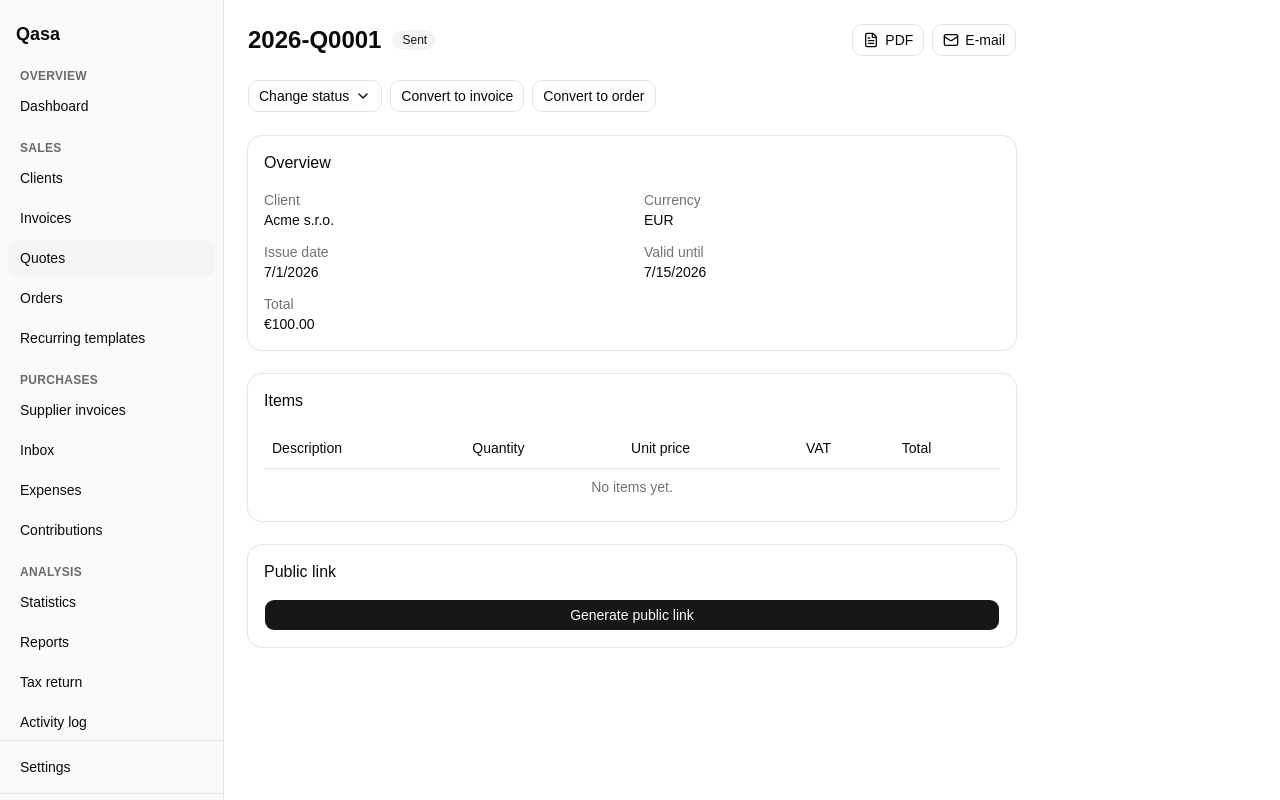
quote detail › only offers status transitions allowed from "sent"
Click the button "Change status" at x=315, y=96, box [248,80,382,112]
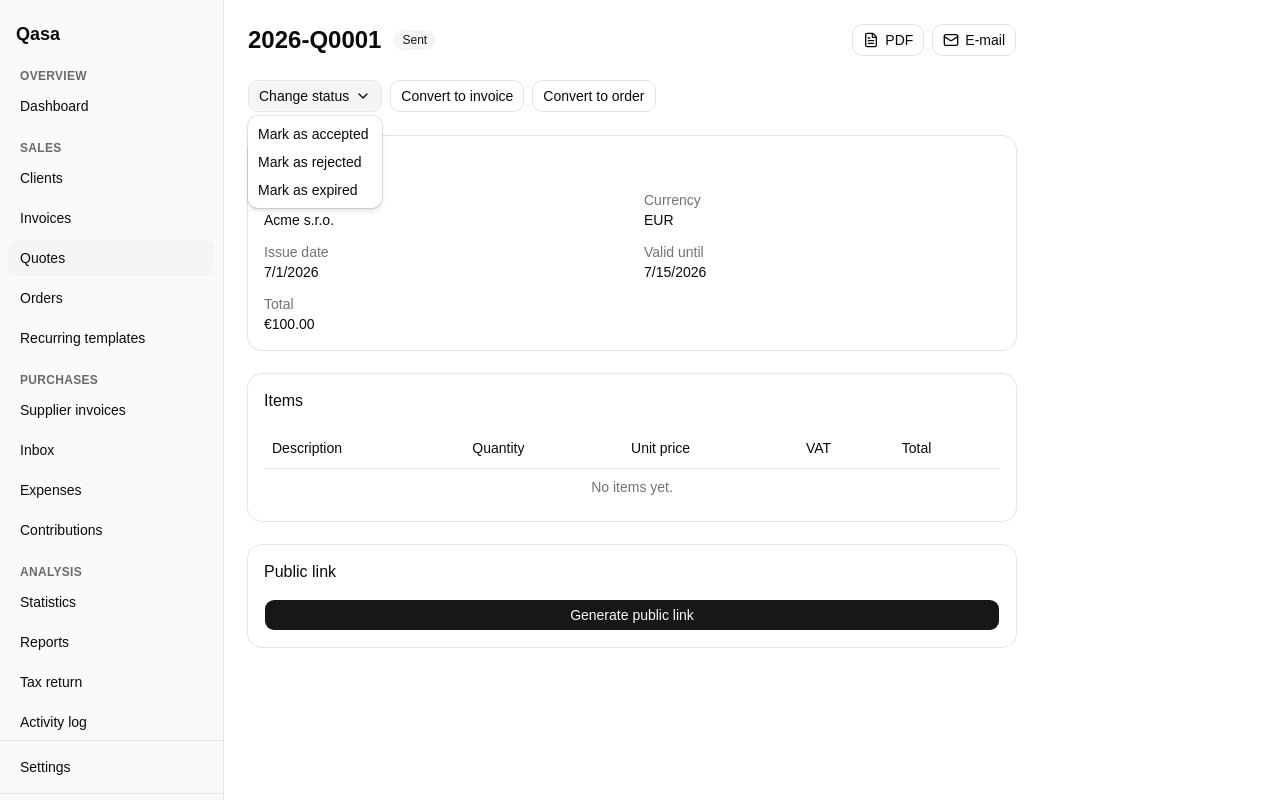
Now the menu item "Mark as accepted" is shown, box [258,126,368,142]
Now the menu item "Mark as rejected" is shown, box [258,154,362,170]
Now the menu item "Mark as expired" is shown, box [258,182,358,198]
